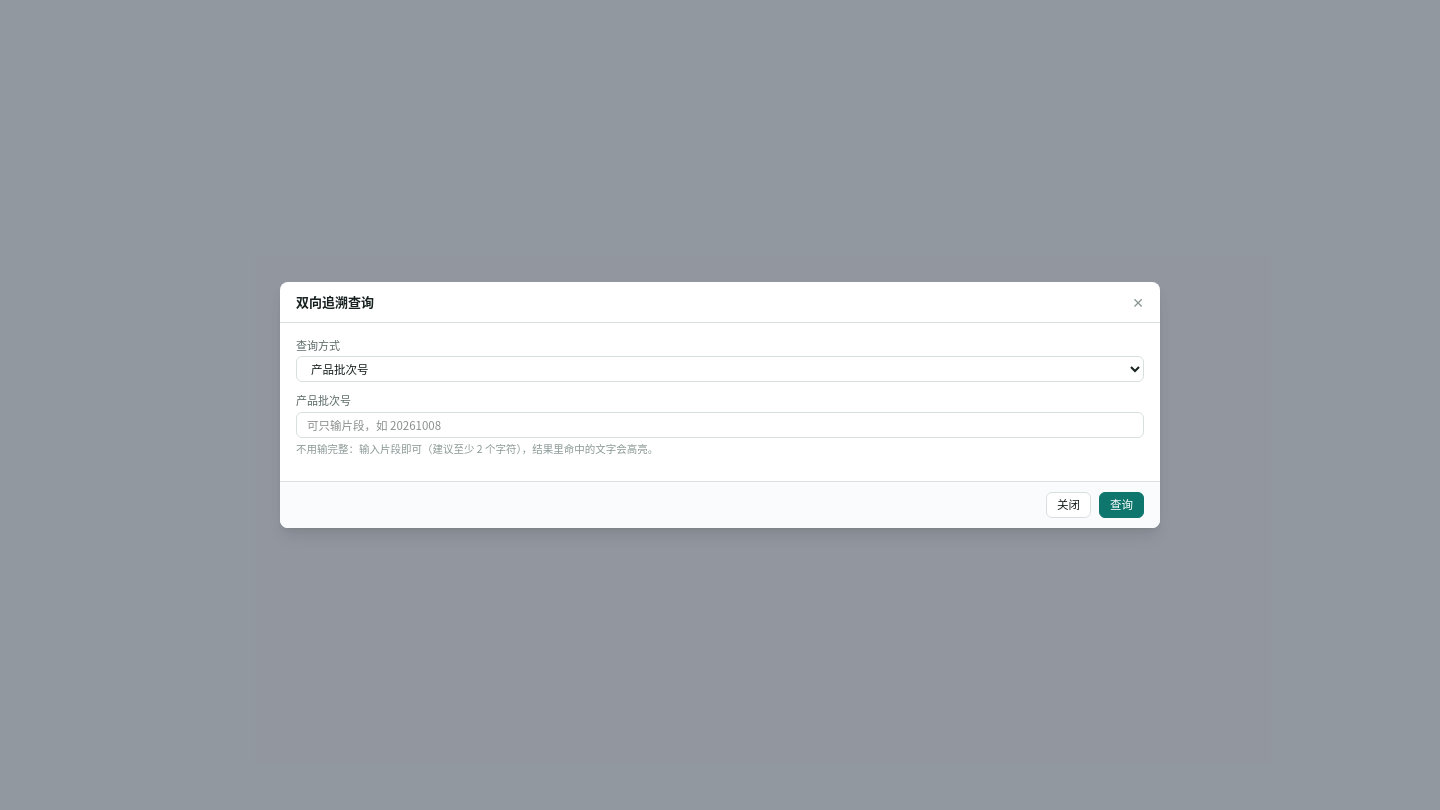
Test case: 产品名称：部分匹配命中同产品的多个批次，合并成两组
This screenshot has width=1440, height=810.
Select "产品名称/编码" in the dropdown labelled "查询方式": point(720, 369) [296,356,1144,382]
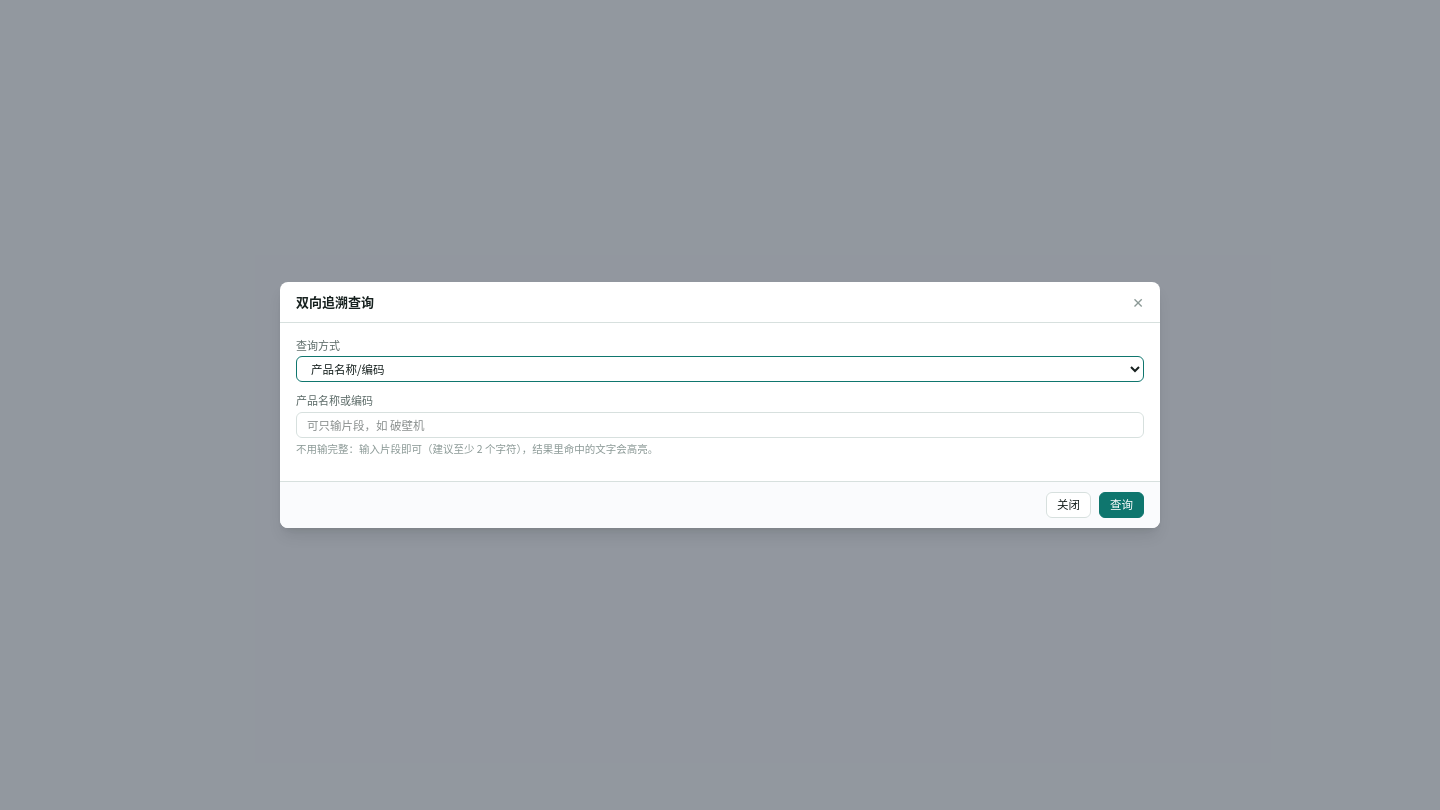
In the field with placeholder "可只输片段，如 破壁机": point(720, 425) [296,412,1144,438], type "水壶"
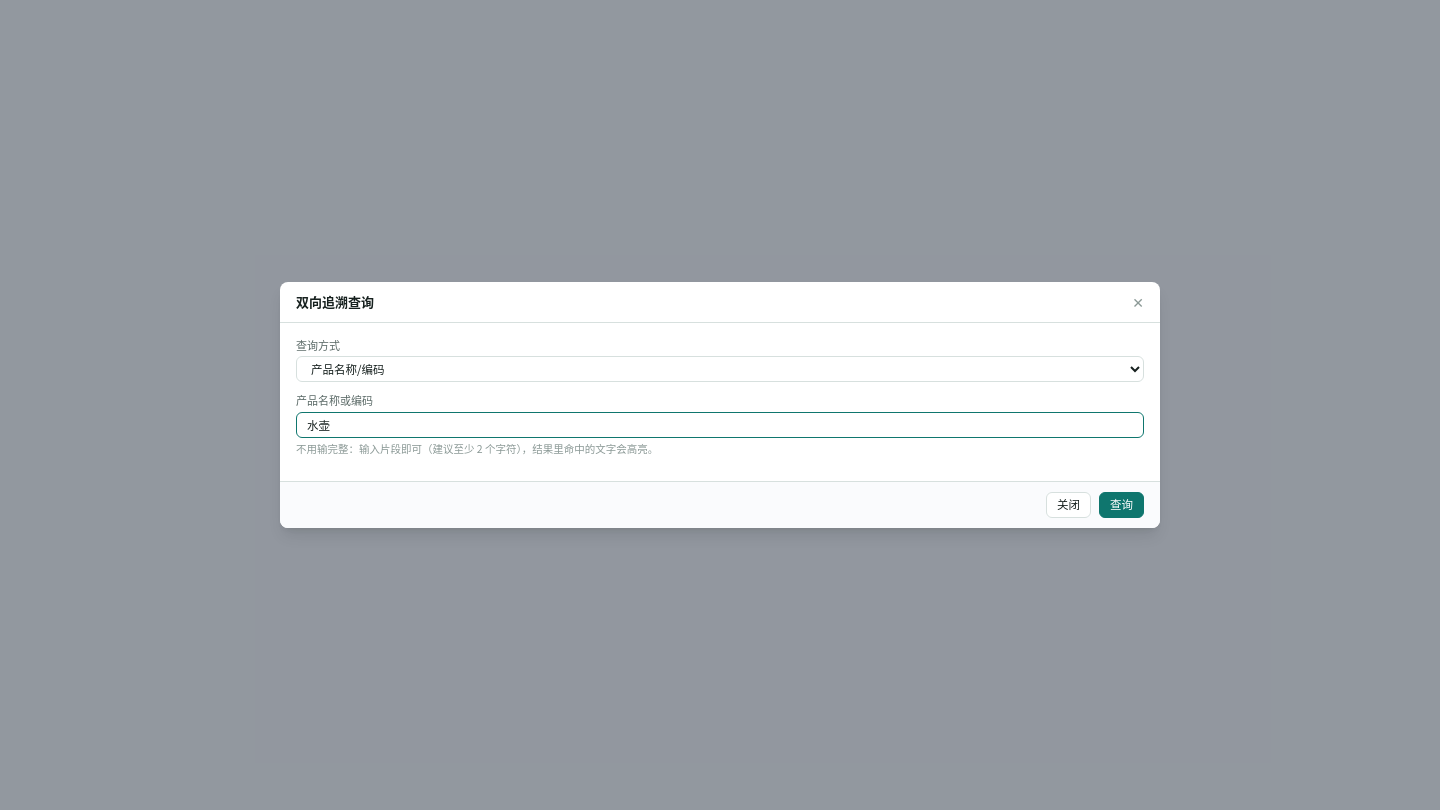
Click the button "查询": point(1122, 505) [1099,492,1144,518]
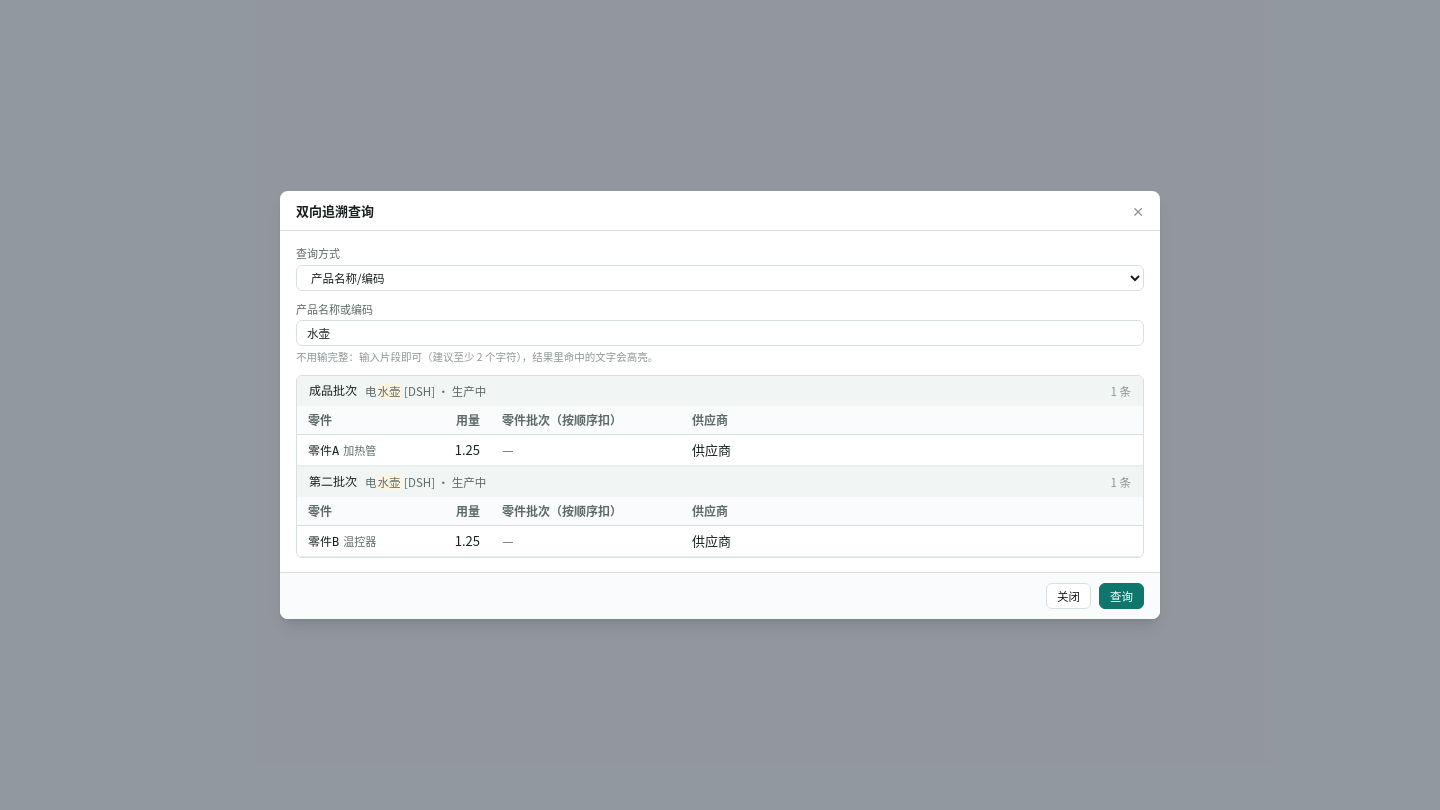
Expected: the text "成品批次" is shown, [309,384,357,398]
Expected: the text "第二批次" is shown, [309,475,357,489]
Expected: the text "温控器" is shown, [343,533,376,549]
